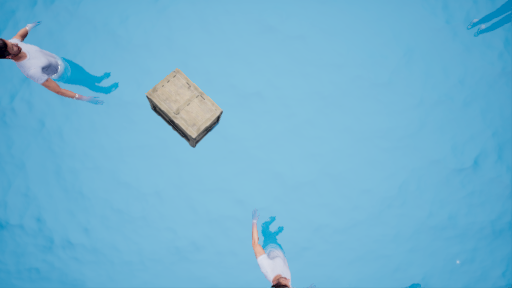person: (4, 16, 111, 113), (244, 211, 307, 288)
